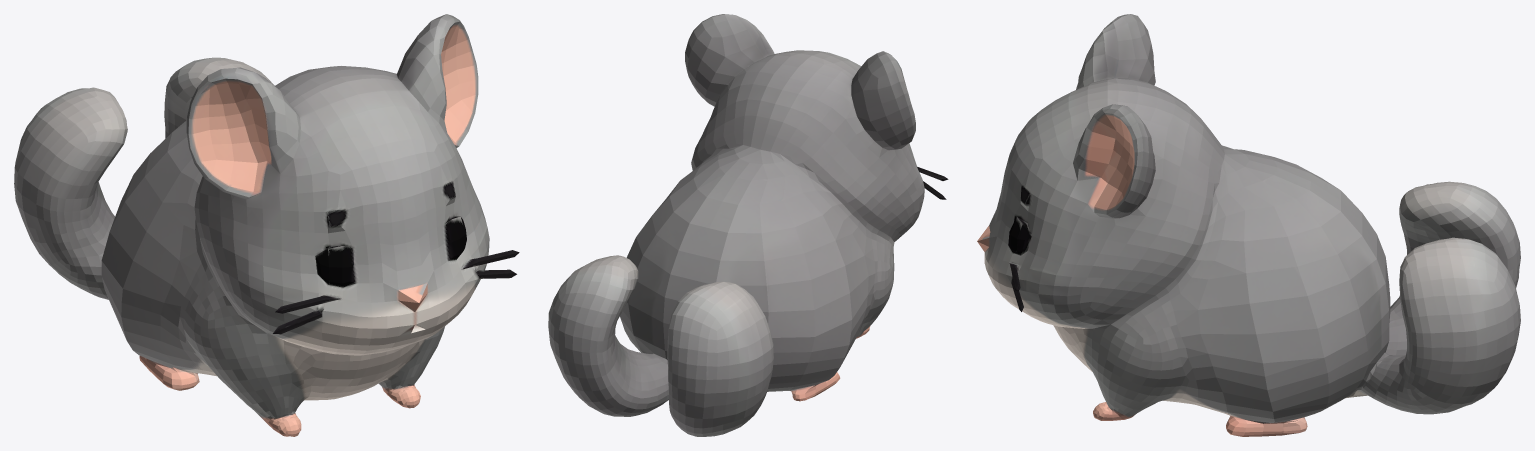
File: chinchilla.glb
3 views of the same model, side by side, from view 1: azimuth 30°, elevation 25°; view 2: azimuth 150°, elevation 25°; view 3: azimuth 270°, elevation 25° (orthographic). The views are drawn at different scales.
Parts seen in each view (by area): view 1: Chinchilla; view 2: Chinchilla; view 3: Chinchilla.
Part boxes in pixels (box(x1,y1,x2,y2)): Chinchilla: box(14, 14, 519, 436); Chinchilla: box(548, 14, 948, 436); Chinchilla: box(977, 14, 1520, 436).
Bounding box in the file's own units: 1.05 × 1.28 × 1.91.
Materials: 1 (1 with a texture image).
